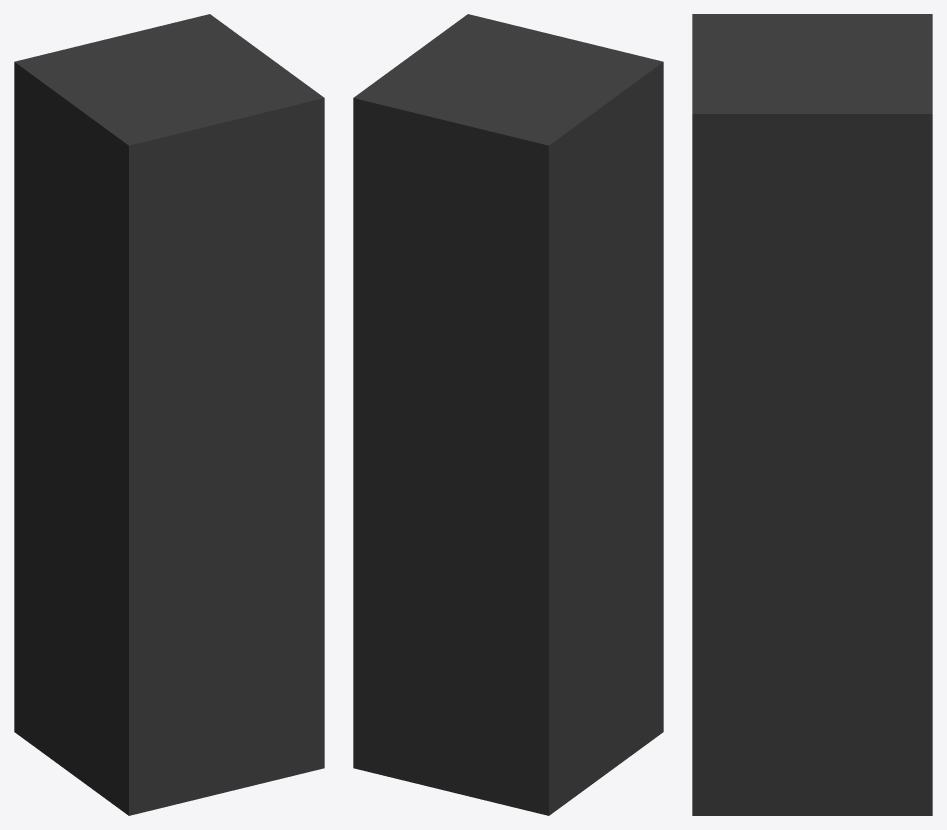
File: ruinwallsegment_02.glb
3 views of the same model, side by side, from view 1: azimuth 30°, elevation 25°; view 2: azimuth 150°, elevation 25°; view 3: azimuth 270°, elevation 25° (orthographic). The views are drawn at different scales.
Parts seen in each view (by area): view 1: geometry_0; view 2: geometry_0; view 3: geometry_0.
Part boxes in pixels (box(x1,y1,x2,y2)): geometry_0: box(14, 14, 324, 815); geometry_0: box(353, 14, 663, 815); geometry_0: box(692, 14, 932, 815).
Bounding box in the file's own units: 1.6 × 5.23 × 1.62.
1 material, 1 textured.
